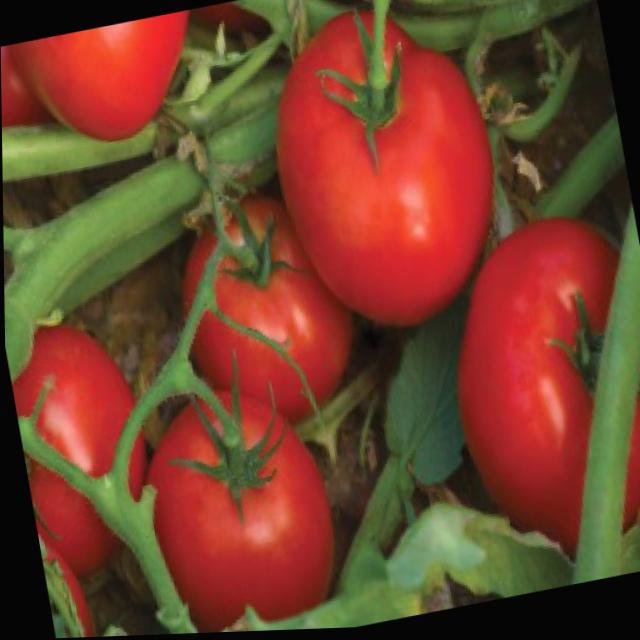tomato: (256, 0, 515, 351), (429, 209, 640, 576), (135, 378, 349, 636), (170, 189, 369, 443), (4, 312, 164, 602), (11, 11, 209, 161)
